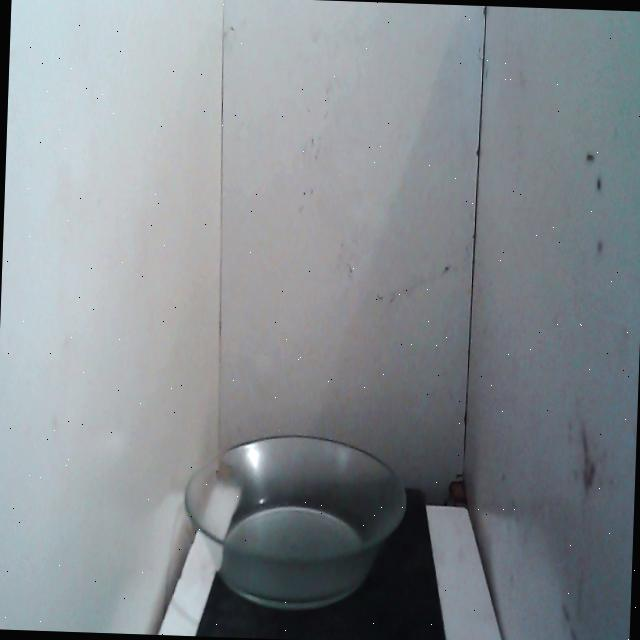vidro: (172, 413, 416, 628)
